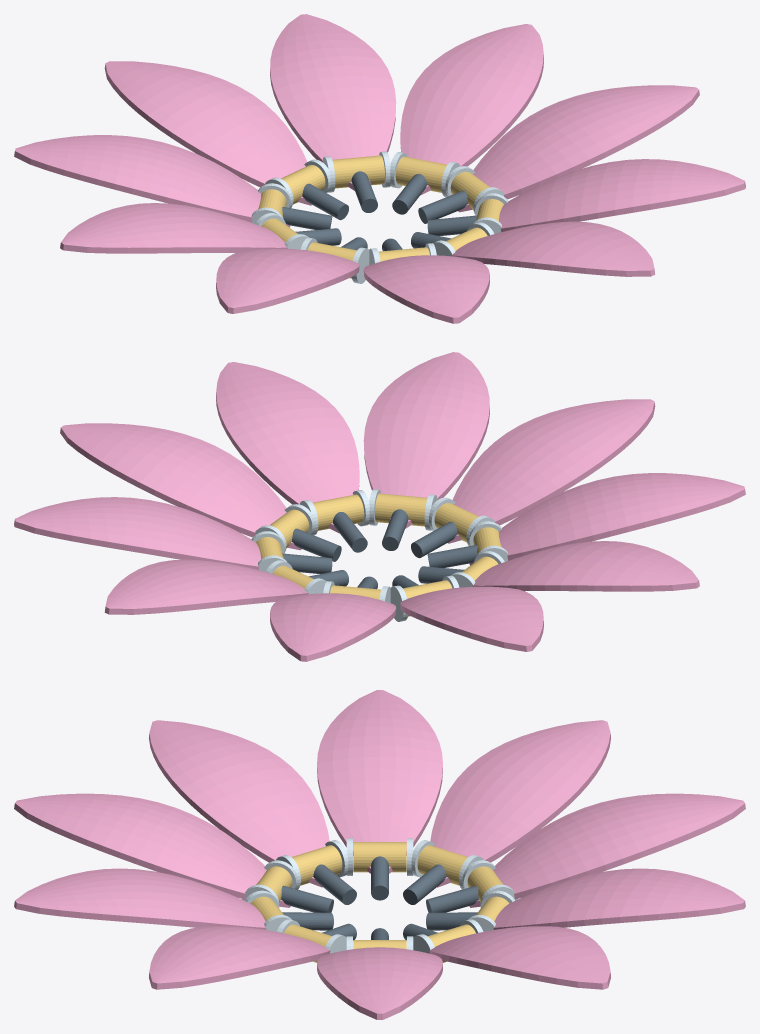
File: parametric_petals_10.glb
3 renders of one model, top to bottom at view 1: azimuth 30°, elevation 25°; view 2: azimuth 150°, elevation 25°; view 3: azimuth 270°, elevation 25°, orthographic. The views are drawn at different scales.
Visible parts, largest first — view 1: Lotus_Parametric_Petals; view 2: Lotus_Parametric_Petals; view 3: Lotus_Parametric_Petals.
Boxes of the visible parts, bbox=[...] form: Lotus_Parametric_Petals: bbox=[14, 14, 745, 323]; Lotus_Parametric_Petals: bbox=[14, 352, 745, 661]; Lotus_Parametric_Petals: bbox=[14, 690, 745, 1019].
Bounding box in the file's own units: 8.15 × 0.8801 × 7.78.
